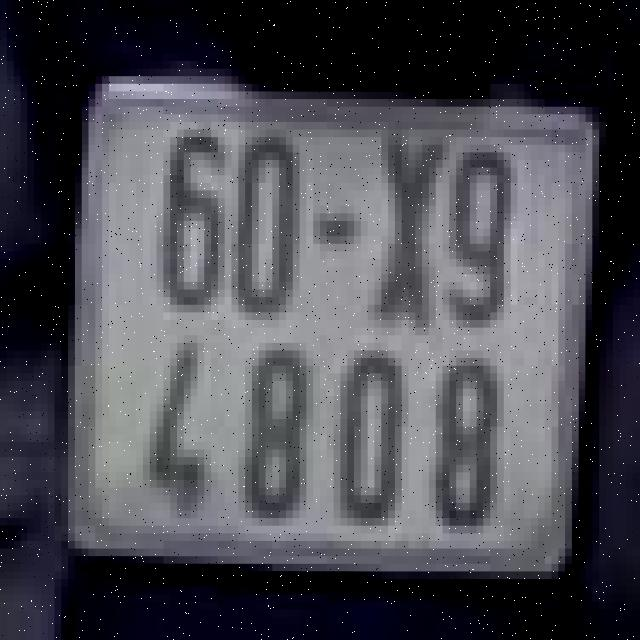0: (327, 332, 415, 537), (225, 133, 306, 324)
4: (140, 335, 221, 526)
6: (146, 126, 235, 316)
8: (426, 343, 514, 548), (231, 331, 320, 522)
9: (446, 137, 528, 335)
X: (374, 126, 442, 339)
